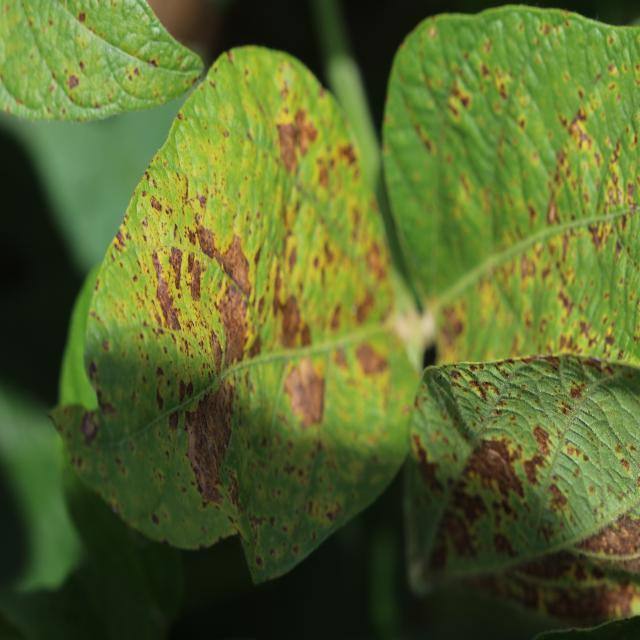Bacterial_Blight: (448, 442, 531, 537), (190, 378, 238, 503), (282, 354, 327, 428), (151, 255, 184, 331), (217, 230, 252, 296), (219, 286, 248, 359), (187, 211, 221, 270), (278, 293, 307, 346), (416, 449, 447, 496), (276, 121, 300, 177), (354, 340, 387, 376), (530, 424, 554, 458), (168, 246, 185, 291), (355, 294, 376, 325), (210, 330, 224, 374), (189, 258, 202, 300), (168, 409, 179, 433), (114, 228, 126, 249), (150, 196, 163, 212), (198, 193, 207, 209)
Soybean: (51, 47, 421, 583)
